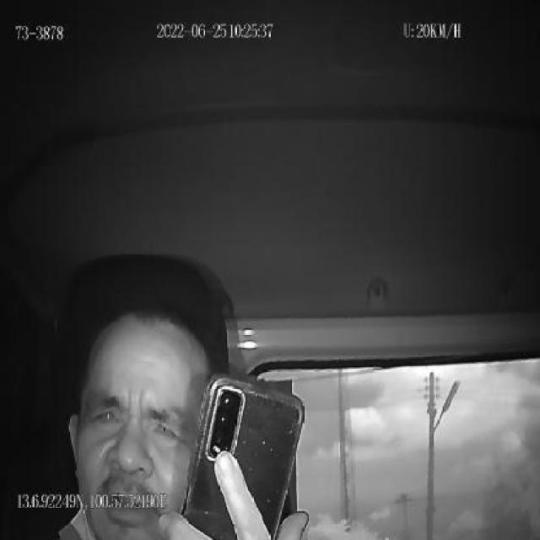phone: (183, 372, 306, 540)
